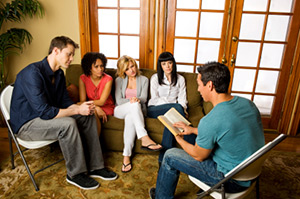Person: (17, 38, 81, 187), (189, 61, 260, 177), (115, 53, 147, 173), (149, 55, 185, 129), (83, 47, 109, 110)
